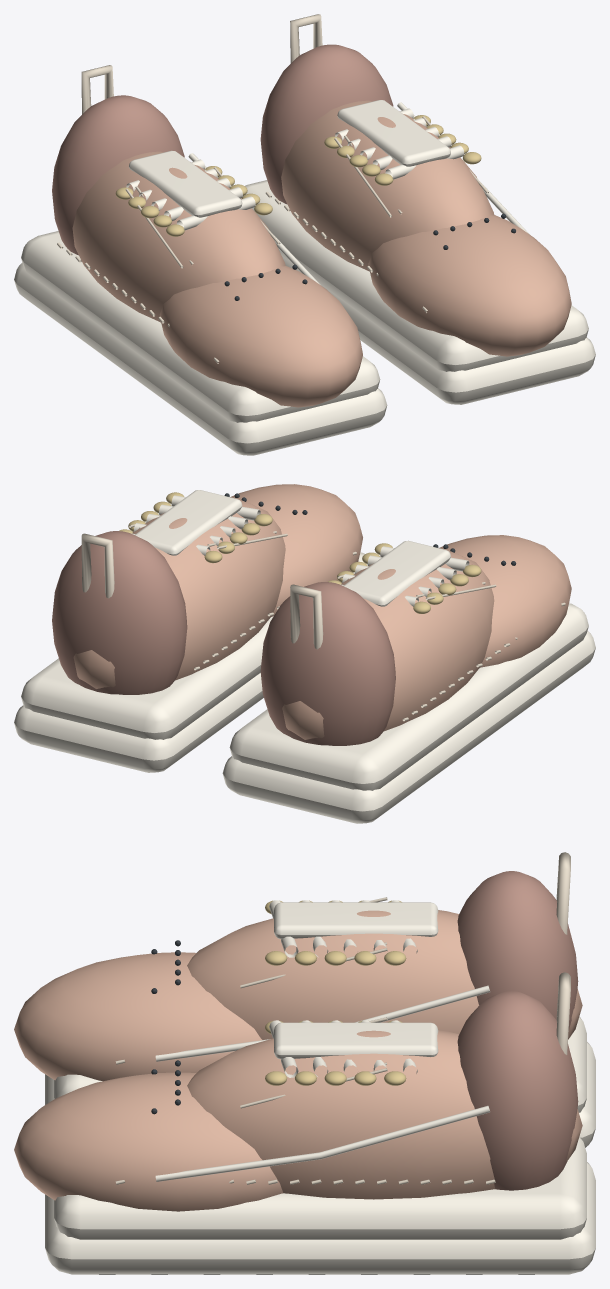
The model's file is product-sneakers.glb.
3 renders of one model, top to bottom at view 1: azimuth 30°, elevation 25°; view 2: azimuth 150°, elevation 25°; view 3: azimuth 270°, elevation 25°, orthographic. The views are drawn at different scales.
Visible parts, largest first — view 1: product_toe, product_toe.001, product_upper.001, product_upper, product_sole, product_sole.001, product_sole.003, product_heel, product_heel.001, product_sole.002, product_tongue.001, product_tongue (+2 smaller); view 2: product_heel, product_heel.001, product_sole.001, product_upper, product_upper.001, product_sole, product_sole.003, product_toe, product_toe.001, product_sole.002, product_tongue, product_tongue.001 (+2 smaller); view 3: product_upper.001, product_toe.001, product_sole.003, product_upper, product_toe, product_sole.002, product_heel.001, product_heel, product_tongue.001, product_tongue, product_side_seam.001, product_sole.001 (+4 smaller).
Boxes of the visible parts, bbox=[...] form: product_toe: bbox=[159, 266, 362, 407]; product_toe.001: bbox=[368, 215, 571, 356]; product_upper.001: bbox=[281, 100, 494, 271]; product_upper: bbox=[72, 151, 285, 322]; product_sole: bbox=[14, 262, 387, 455]; product_sole.001: bbox=[21, 231, 380, 422]; product_sole.003: bbox=[242, 180, 588, 371]; product_heel: bbox=[52, 95, 184, 255]; product_heel.001: bbox=[260, 44, 393, 204]; product_sole.002: bbox=[281, 255, 595, 404]; product_tongue.001: bbox=[337, 100, 450, 166]; product_tongue: bbox=[128, 150, 242, 217]; product_heel: bbox=[260, 582, 395, 745]; product_heel.001: bbox=[52, 531, 187, 694]; product_sole.001: bbox=[229, 603, 588, 790]; product_upper: bbox=[282, 550, 494, 739]; product_upper.001: bbox=[73, 499, 285, 688]; product_sole: bbox=[222, 630, 595, 823]; product_sole.003: bbox=[21, 552, 367, 739]; product_toe: bbox=[439, 535, 571, 667]; product_toe.001: bbox=[230, 484, 362, 616]; product_sole.002: bbox=[14, 673, 263, 772]; product_tongue: bbox=[343, 540, 450, 606]; product_tongue.001: bbox=[135, 490, 242, 555]; product_upper.001: bbox=[187, 1030, 582, 1199]; product_toe.001: bbox=[14, 1072, 282, 1211]; product_sole.003: bbox=[54, 1137, 586, 1239]; product_upper: bbox=[187, 910, 582, 1039]; product_toe: bbox=[14, 952, 261, 1081]; product_sole.002: bbox=[45, 1162, 595, 1274]; product_heel.001: bbox=[457, 991, 578, 1190]; product_heel: bbox=[457, 871, 578, 1030]; product_tongue.001: bbox=[274, 1022, 438, 1059]; product_tongue: bbox=[274, 902, 438, 939]; product_side_seam.001: bbox=[155, 1105, 489, 1181]; product_sole.001: bbox=[54, 1016, 586, 1112].
Bounding box in the file's own units: 1.12 × 0.6464 × 1.31.
